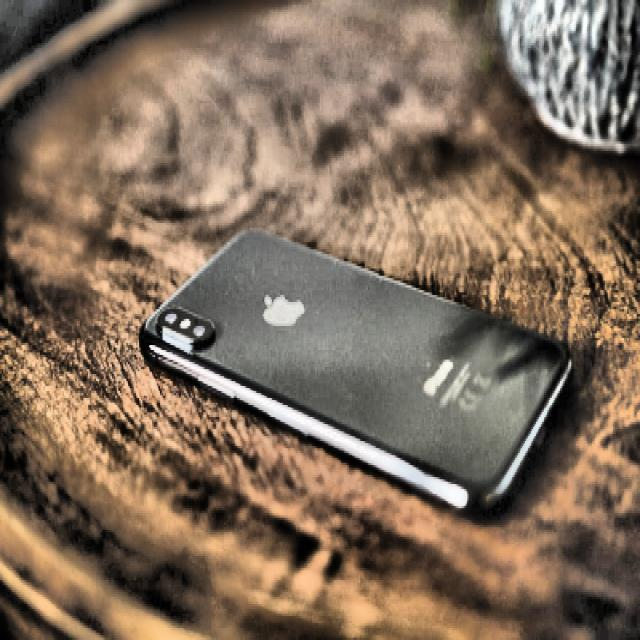Phone: (138, 227, 574, 527)
